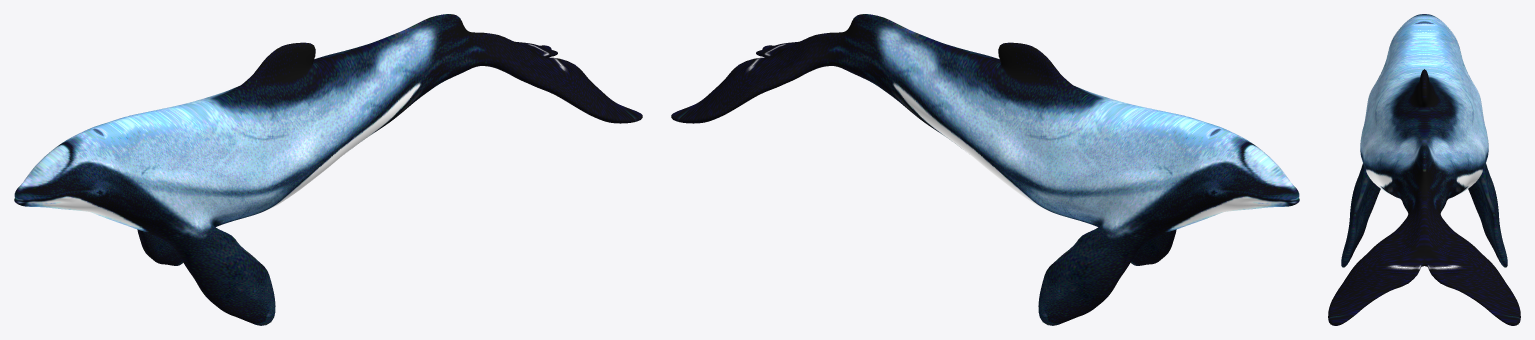
File: hectors_dolphin.glb
3 views of the same model, side by side, from view 1: azimuth 30°, elevation 25°; view 2: azimuth 150°, elevation 25°; view 3: azimuth 270°, elevation 25° (orthographic). The views are drawn at different scales.
Visible parts, largest first — view 1: dolphin; view 2: dolphin; view 3: dolphin.
Part boxes in pixels (box(x1,y1,x2,y2)): dolphin: box(14, 14, 642, 325); dolphin: box(671, 14, 1299, 325); dolphin: box(1328, 14, 1520, 325).
Size of the model in its own units: 10.36 by 4 by 3.1.
1 material, 1 textured.
